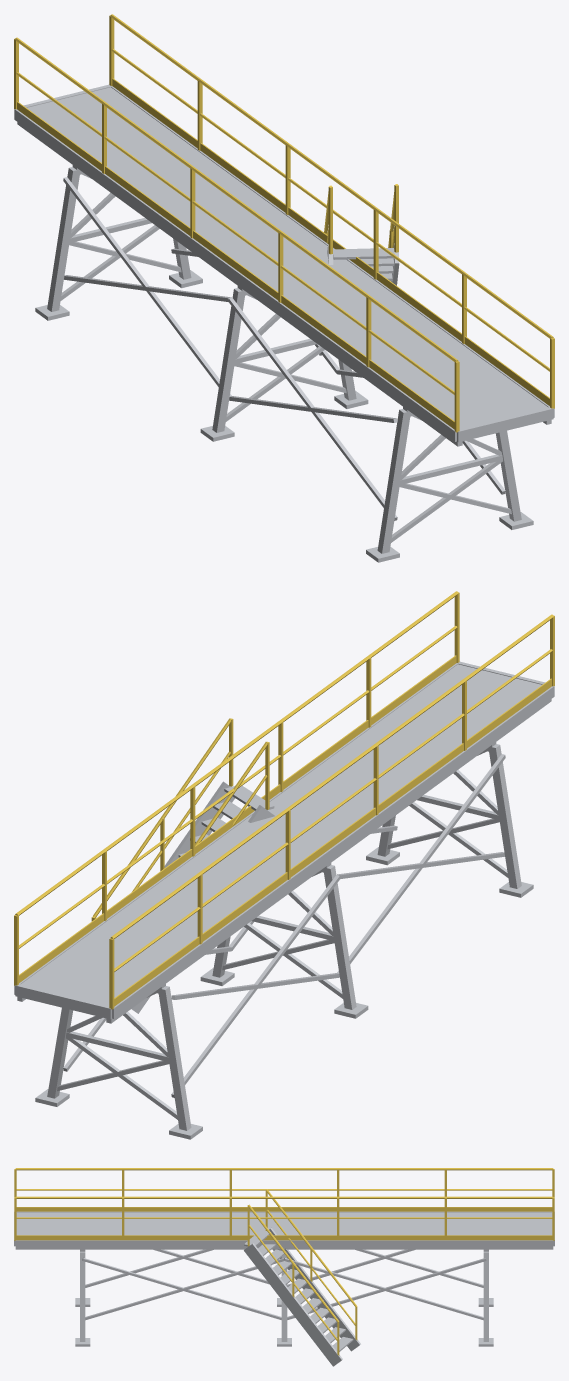
Rendered from ore-processing-and-haulage-plant-conveyor-walkway-modu-5d9c5fea.glb.
3 views of the same model, one above another, from view 1: azimuth 30°, elevation 25°; view 2: azimuth 150°, elevation 25°; view 3: azimuth 270°, elevation 25° (orthographic). The views are drawn at different scales.
Visible parts, largest first — view 1: conveyor-walkway-module; view 2: conveyor-walkway-module; view 3: conveyor-walkway-module.
Part boxes in pixels (x1=…): conveyor-walkway-module: x1=14, y1=14, x2=554, y2=562; conveyor-walkway-module: x1=14, y1=591, x2=554, y2=1139; conveyor-walkway-module: x1=14, y1=1168, x2=554, y2=1366.
Bounding box in the file's own units: 3.6 × 3.54 × 12.07.
